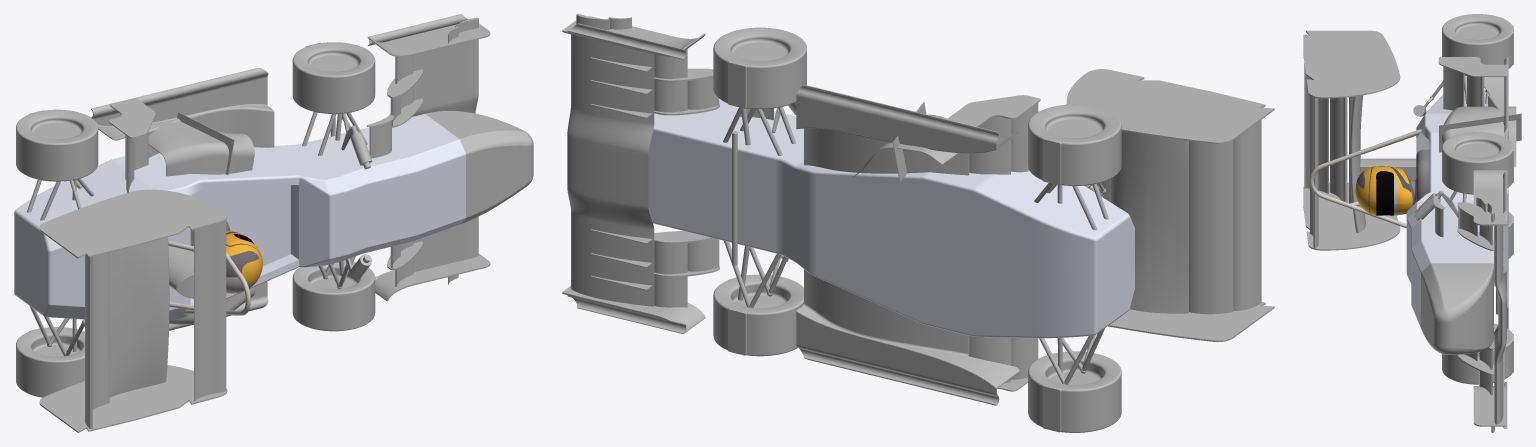
The model's file is f33cfd901-compressed.glb.
The picture shows the model from 3 angles, left to right: view 1: azimuth 30°, elevation 25°; view 2: azimuth 150°, elevation 25°; view 3: azimuth 270°, elevation 25°; orthographic projection. The views are drawn at different scales.
Parts seen in each view (by area): view 1: f33cfd001-1, mini_33_ut-1, f33cfd409-1, f33cfd407-1, f33cfd101-1, f33cfd043-1, f33cfd404-4, f33cfd007-1, f33cfd007-3, f33cfd408-2, f33cfd007-4, f33cfd317-1 (+14 smaller); view 2: f33cfd001-1, mini_33_ut-1, f33cfd101-1, f33cfd409-1, f33cfd407-1, f33cfd403-1, f33cfd007-3, f33cfd007-1, f33cfd007-2, f33cfd007-4, f33cfd405-1, f33cfd408-2 (+10 smaller); view 3: f33cfd001-1, f33cfd043-1, f33cfd407-1, f33cfd007-1, f33cfd408-2, f33cfd005-1, f33cfd007-3, f33cfd317-1, f33cfd101-1, mini_33_ut-1, f33cfd125-1, f33cfd403-1 (+17 smaller).
Part boxes in pixels (x1,y1,x2,y2): f33cfd001-1: (14, 114, 465, 321); mini_33_ut-1: (91, 68, 274, 330); f33cfd409-1: (109, 237, 169, 397); f33cfd407-1: (39, 189, 227, 258); f33cfd101-1: (413, 39, 478, 272); f33cfd043-1: (428, 111, 533, 223); f33cfd404-4: (194, 220, 226, 400); f33cfd007-1: (292, 42, 375, 113); f33cfd007-3: (16, 109, 98, 181); f33cfd408-2: (39, 365, 227, 432); f33cfd007-4: (292, 260, 375, 331); f33cfd317-1: (148, 112, 254, 176); f33cfd001-1: (649, 100, 1134, 338); mini_33_ut-1: (796, 85, 1040, 405); f33cfd101-1: (567, 34, 654, 306); f33cfd409-1: (1110, 131, 1188, 313); f33cfd407-1: (1066, 69, 1274, 143); f33cfd403-1: (1189, 140, 1233, 314); f33cfd007-3: (1028, 104, 1121, 185); f33cfd007-1: (713, 27, 806, 109); f33cfd007-2: (1028, 351, 1121, 432); f33cfd007-4: (713, 274, 803, 356); f33cfd405-1: (1233, 120, 1261, 310); f33cfd408-2: (1108, 302, 1274, 342); f33cfd001-1: (1406, 90, 1508, 327); f33cfd043-1: (1421, 263, 1493, 354); f33cfd407-1: (1303, 30, 1400, 98); f33cfd007-1: (1442, 132, 1513, 194); f33cfd408-2: (1303, 182, 1400, 250); f33cfd005-1: (1355, 149, 1429, 215); f33cfd007-3: (1442, 14, 1513, 75); f33cfd317-1: (1439, 106, 1521, 167); f33cfd101-1: (1494, 225, 1506, 424); mini_33_ut-1: (1438, 57, 1508, 328); f33cfd125-1: (1473, 170, 1507, 225); f33cfd403-1: (1330, 97, 1347, 202).
Bounding box in the file's own units: 3.04 × 1.39 × 1.23.
Materials: 8 (1 with a texture image).
